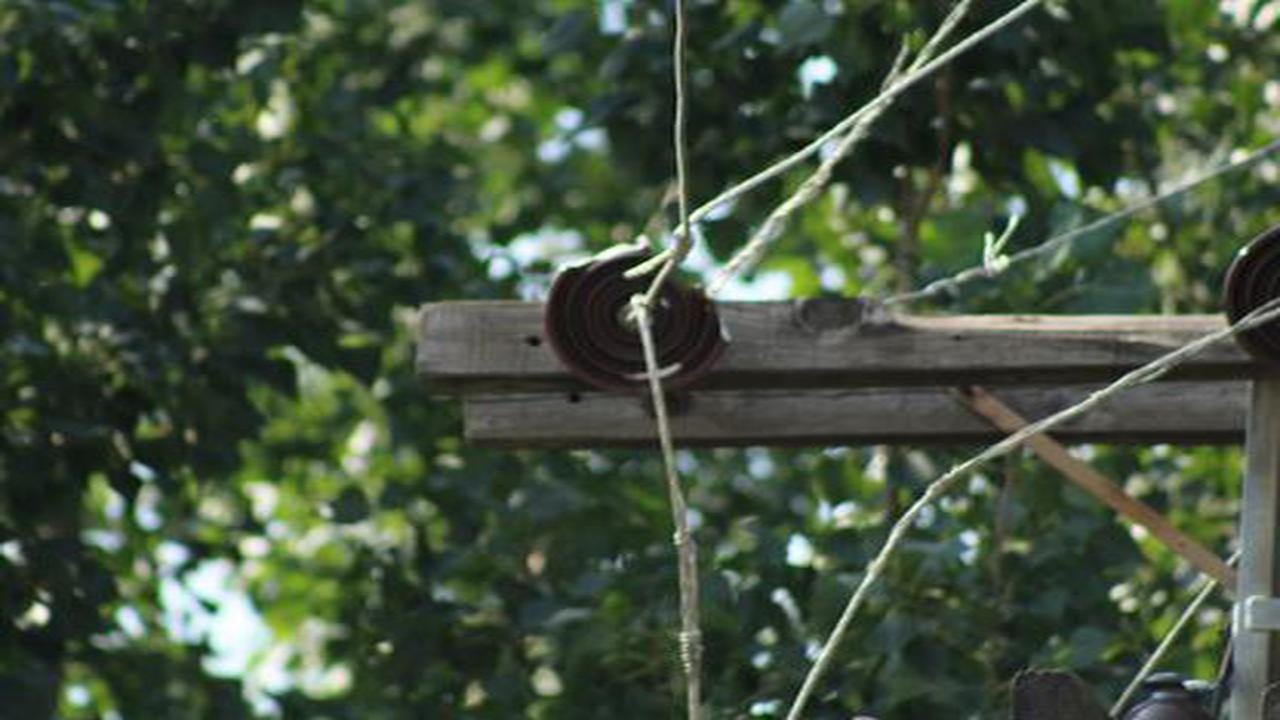defect_disc: (540, 236, 735, 404)
